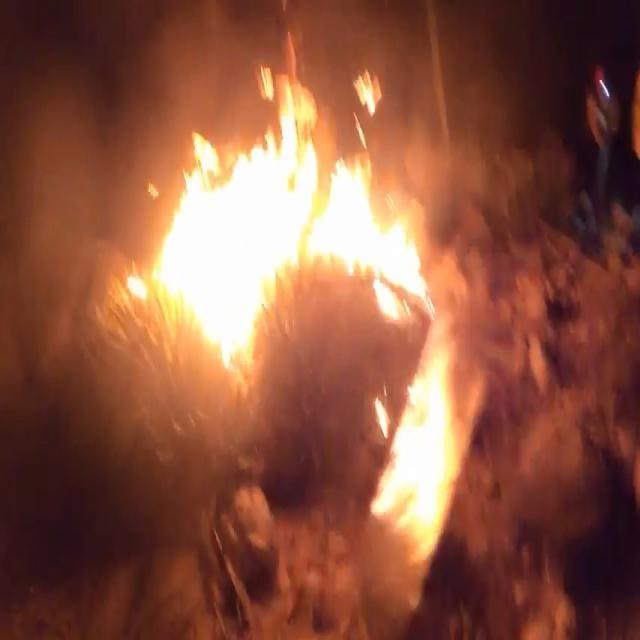Fire: (144, 39, 463, 554)
